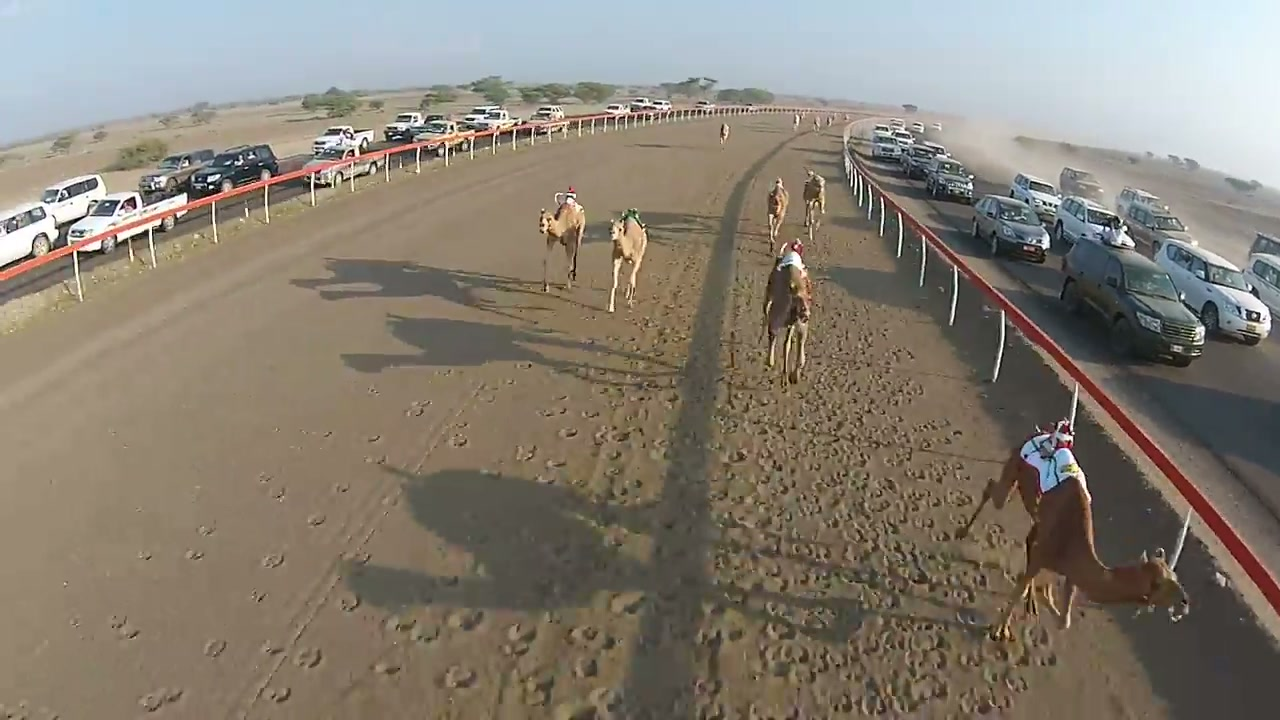animal_foot_print: (389, 322, 919, 711), (93, 340, 486, 709)
